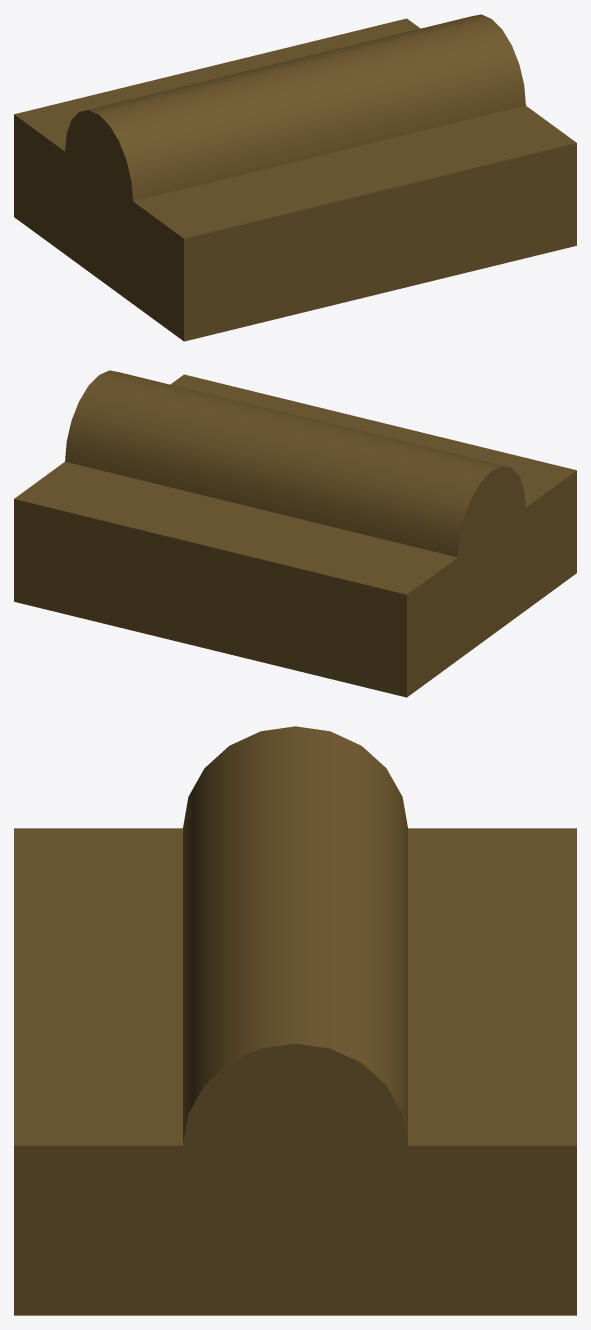
Rendered from house1.fbx.
The picture shows the model from 3 angles, top to bottom: view 1: azimuth 30°, elevation 25°; view 2: azimuth 150°, elevation 25°; view 3: azimuth 270°, elevation 25°; orthographic projection. The views are drawn at different scales.
Parts seen in each view (by area): view 1: pCylinder1, leftWall, pPlane2, pPlane1; view 2: pCylinder1, rightWall1, pPlane2, pPlane1; view 3: pPlane2, door, pCylinder1.
Part boxes in pixels (left/top/right/bottom): pCylinder1: left=65, top=14, right=525, bottom=201; leftWall: left=184, top=143, right=576, bottom=341; pPlane2: left=14, top=18, right=576, bottom=238; pPlane1: left=14, top=114, right=183, bottom=341; pCylinder1: left=65, top=370, right=525, bottom=557; rightWall1: left=14, top=499, right=406, bottom=697; pPlane2: left=14, top=374, right=576, bottom=594; pPlane1: left=407, top=470, right=576, bottom=697; pPlane2: left=14, top=828, right=576, bottom=1145; door: left=14, top=1145, right=576, bottom=1315; pCylinder1: left=183, top=726, right=407, bottom=1145.
Size of the model in its own units: 0.04 by 0.016 by 0.03.
